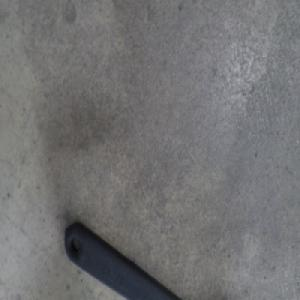AdjustableWrench: (62, 221, 188, 299)
